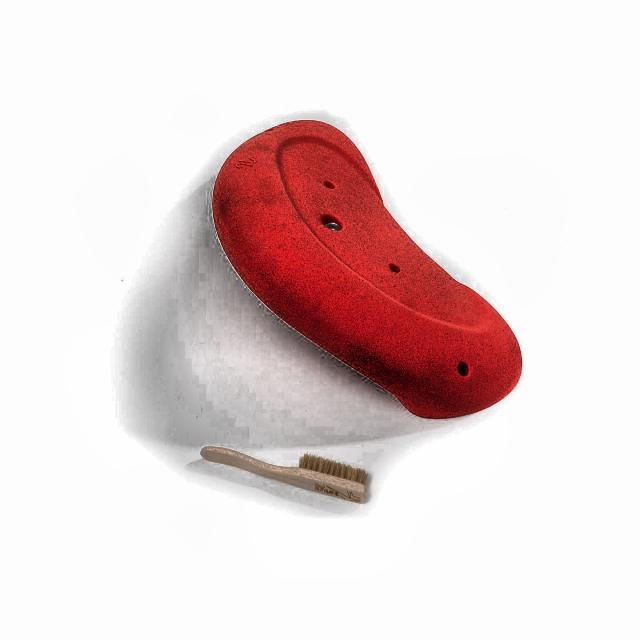Hold: (203, 99, 539, 434)
